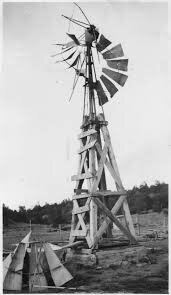faulty: (47, 5, 133, 110)
